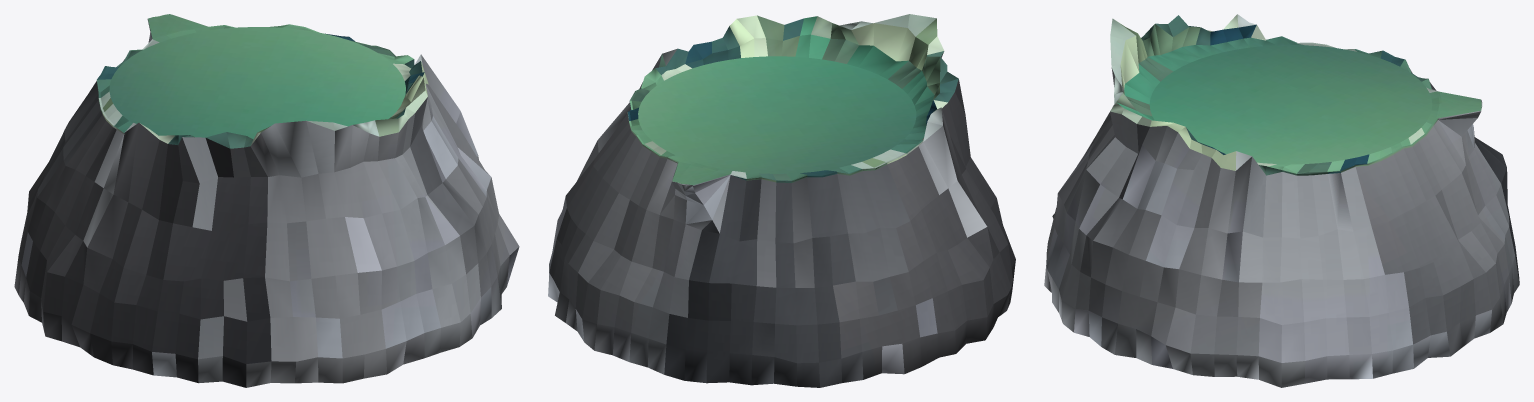
The model's file is island.fbx.
The picture shows the model from 3 angles, left to right: view 1: azimuth 30°, elevation 25°; view 2: azimuth 150°, elevation 25°; view 3: azimuth 270°, elevation 25°; orthographic projection. The views are drawn at different scales.
Parts seen in each view (by area): view 1: Cylinder; view 2: Cylinder; view 3: Cylinder.
Part boxes in pixels (x1=…): Cylinder: x1=14, y1=14, x2=519, y2=387; Cylinder: x1=548, y1=14, x2=1015, y2=387; Cylinder: x1=1044, y1=14, x2=1519, y2=387.
Size of the model in its own units: 2961 by 1578 by 2924.
3 materials, 3 textured.
